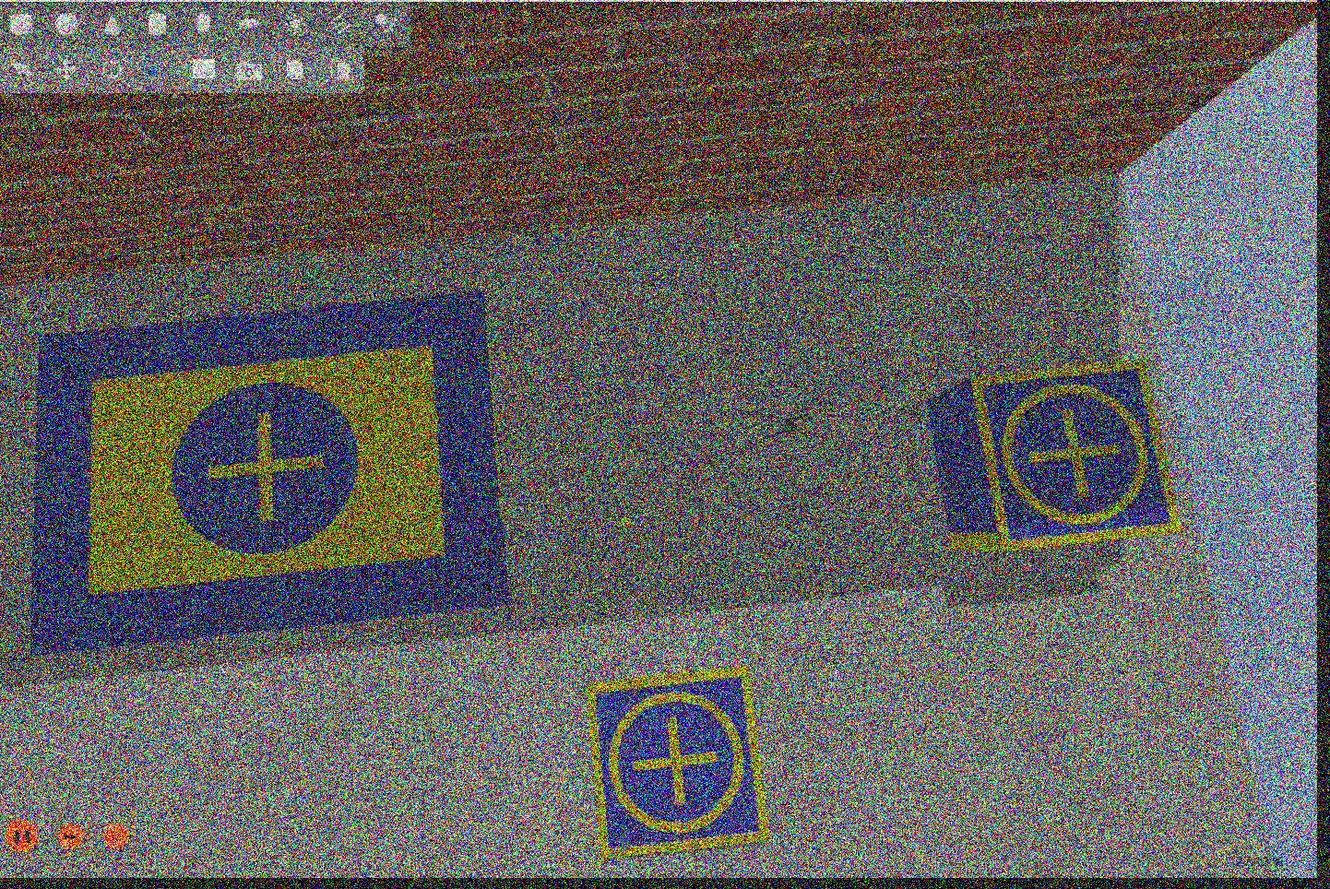large_base: (25, 286, 515, 663)
small_base: (966, 358, 1184, 553), (585, 672, 775, 871)
